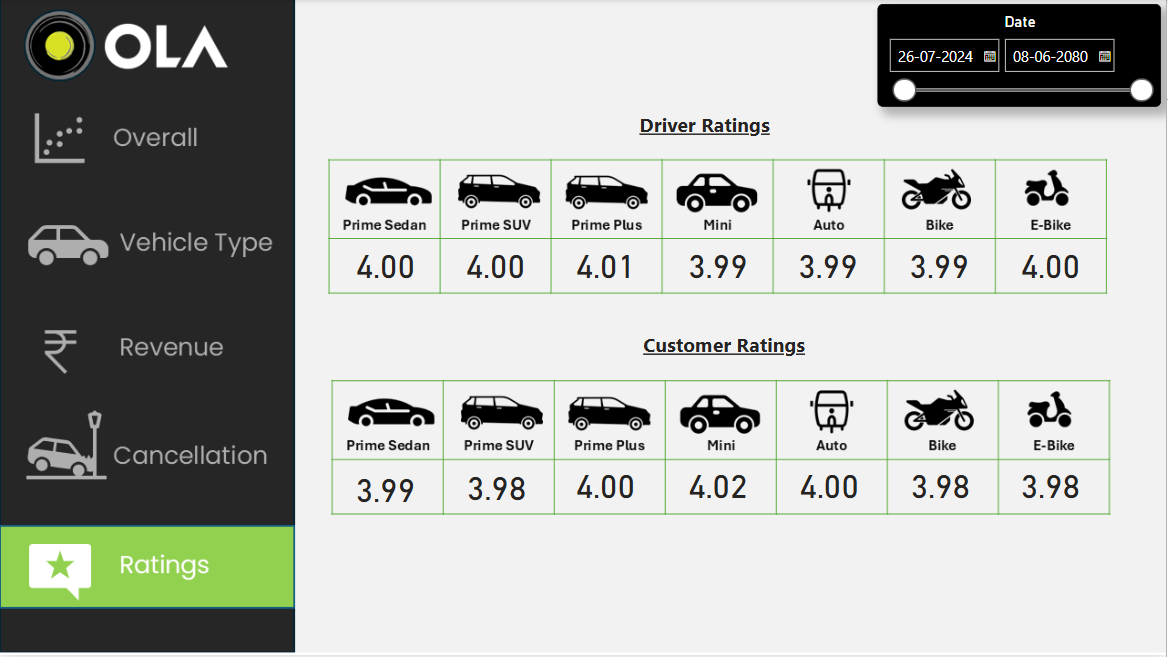

What the dashboard file says about the page in this screenshot:
{"tool":"powerbi","page":{"name":"Ratings","canvas":[1280,720],"ordinal":4},"visuals":[{"type":"actionButton","box":[0,220.8,324.5,91.7],"z":0},{"type":"actionButton","box":[0,339,324.5,91.7],"z":1000},{"type":"actionButton","box":[0,454.8,324.5,91.7],"z":2000},{"type":"actionButton","box":[0,579.1,324.5,91.7],"z":3000},{"type":"actionButton","box":[1.2,112.2,324.5,91.7],"z":4000},{"type":"card","fields":{"Values":["Avg(Bookings.Driver_Ratings)"]},"box":[369.1,266.2,108.4,48],"z":5000},{"type":"card","fields":{"Values":["Avg(Bookings.Driver_Ratings)"]},"box":[489.9,266.2,108.4,48],"z":6000},{"type":"card","fields":{"Values":["Avg(Bookings.Driver_Ratings)"]},"box":[610.6,266.2,108.4,48],"z":7000},{"type":"card","fields":{"Values":["Avg(Bookings.Driver_Ratings)"]},"box":[734.1,266.2,108.4,48],"z":8000},{"type":"card","fields":{"Values":["Avg(Bookings.Driver_Ratings)"]},"box":[854.9,266.2,108.4,48],"z":9000},{"type":"card","fields":{"Values":["Avg(Bookings.Driver_Ratings)"]},"box":[977,266.2,108.4,48],"z":10000},{"type":"card","fields":{"Values":["Avg(Bookings.Driver_Ratings)"]},"box":[1099.1,266.2,108.4,48],"z":11000},{"type":"card","fields":{"Values":["Avg(Bookings.Customer_Rating)"]},"box":[369.1,511.8,108.4,48],"z":12000},{"type":"textbox","box":[697.1,118,175.6,39.8],"z":12001},{"type":"textbox","box":[701.2,359.5,208.6,39.8],"z":12002},{"type":"card","fields":{"Values":["Avg(Bookings.Customer_Rating)"]},"box":[491.3,510.5,108.4,48],"z":12003},{"type":"card","fields":{"Values":["Avg(Bookings.Customer_Rating)"]},"box":[610.6,507.7,108.4,48],"z":12004},{"type":"card","fields":{"Values":["Avg(Bookings.Customer_Rating)"]},"box":[734.1,507.7,108.4,48],"z":12005},{"type":"card","fields":{"Values":["Avg(Bookings.Customer_Rating)"]},"box":[856.3,507.7,108.4,48],"z":12006},{"type":"card","fields":{"Values":["Avg(Bookings.Customer_Rating)"]},"box":[978.4,507.7,108.4,48],"z":12007},{"type":"card","fields":{"Values":["Avg(Bookings.Customer_Rating)"]},"box":[1099.1,507.7,108.4,48],"z":12008},{"type":"slicer","title":"Date","fields":{"Values":["Bookings.Date"]},"box":[963.3,5.5,311.5,112.5],"z":12009}]}

Visuals, with their boxes in screenshot pixels (x1, y1, x2, y2), scaled from the page's 1280x720 canvas onto the 1168x657 screenshot:
actionButton: [left=0, top=201, right=296, bottom=285]
actionButton: [left=0, top=309, right=296, bottom=393]
actionButton: [left=0, top=415, right=296, bottom=499]
actionButton: [left=0, top=528, right=296, bottom=612]
actionButton: [left=1, top=102, right=297, bottom=186]
card - Avg(Bookings.Driver_Ratings): [left=337, top=243, right=436, bottom=287]
card - Avg(Bookings.Driver_Ratings): [left=447, top=243, right=546, bottom=287]
card - Avg(Bookings.Driver_Ratings): [left=557, top=243, right=656, bottom=287]
card - Avg(Bookings.Driver_Ratings): [left=670, top=243, right=769, bottom=287]
card - Avg(Bookings.Driver_Ratings): [left=780, top=243, right=879, bottom=287]
card - Avg(Bookings.Driver_Ratings): [left=892, top=243, right=990, bottom=287]
card - Avg(Bookings.Driver_Ratings): [left=1003, top=243, right=1102, bottom=287]
card - Avg(Bookings.Customer_Rating): [left=337, top=467, right=436, bottom=511]
textbox: [left=636, top=108, right=796, bottom=144]
textbox: [left=640, top=328, right=830, bottom=364]
card - Avg(Bookings.Customer_Rating): [left=448, top=466, right=547, bottom=510]
card - Avg(Bookings.Customer_Rating): [left=557, top=463, right=656, bottom=507]
card - Avg(Bookings.Customer_Rating): [left=670, top=463, right=769, bottom=507]
card - Avg(Bookings.Customer_Rating): [left=781, top=463, right=880, bottom=507]
card - Avg(Bookings.Customer_Rating): [left=893, top=463, right=992, bottom=507]
card - Avg(Bookings.Customer_Rating): [left=1003, top=463, right=1102, bottom=507]
"Date" slicer: [left=879, top=5, right=1163, bottom=108]
